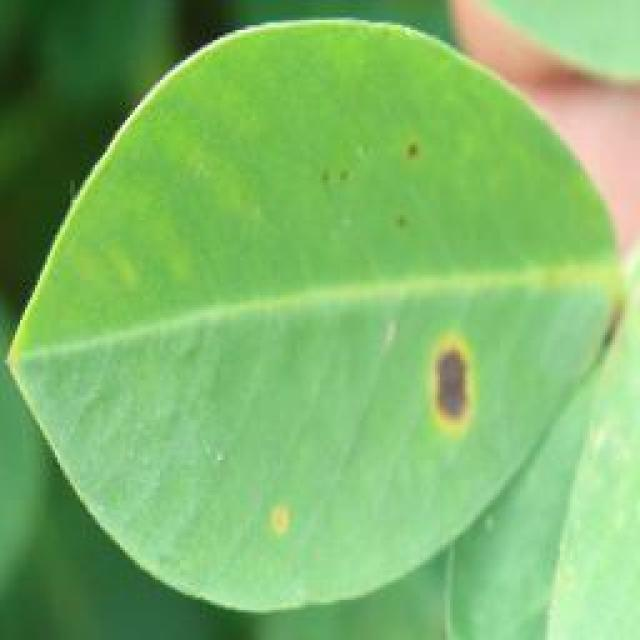Early_leaf_spot: (315, 137, 431, 242), (410, 318, 481, 446), (257, 481, 313, 544)
